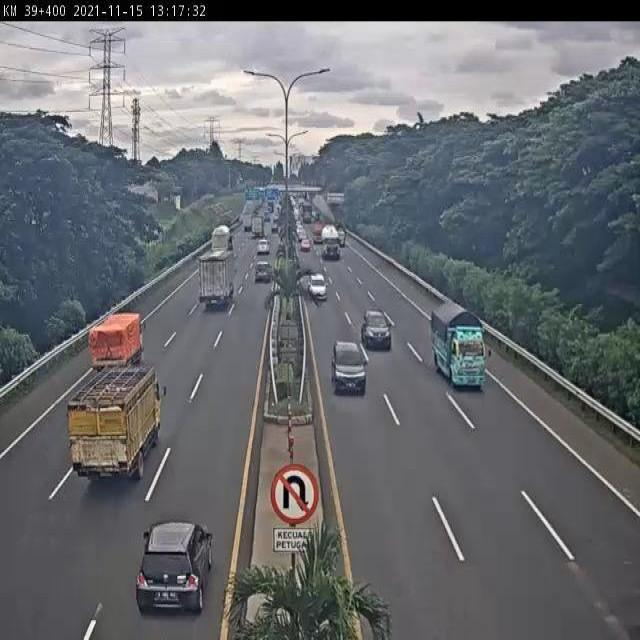car: (137, 522, 214, 610), (330, 339, 366, 392), (361, 307, 391, 349), (309, 274, 327, 302), (255, 266, 269, 286)
truck-l-: (319, 223, 340, 260)
truck-m-: (71, 365, 161, 480), (430, 303, 487, 392), (88, 312, 145, 369), (197, 254, 233, 314)
